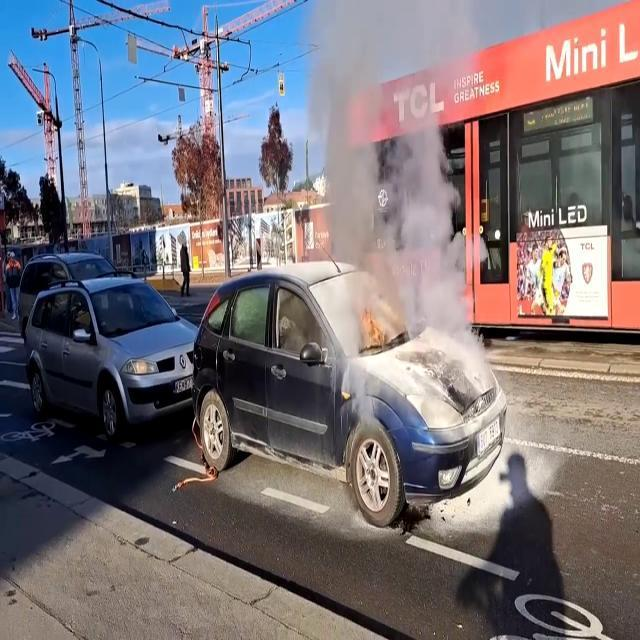Smoke: (295, 0, 478, 359)
